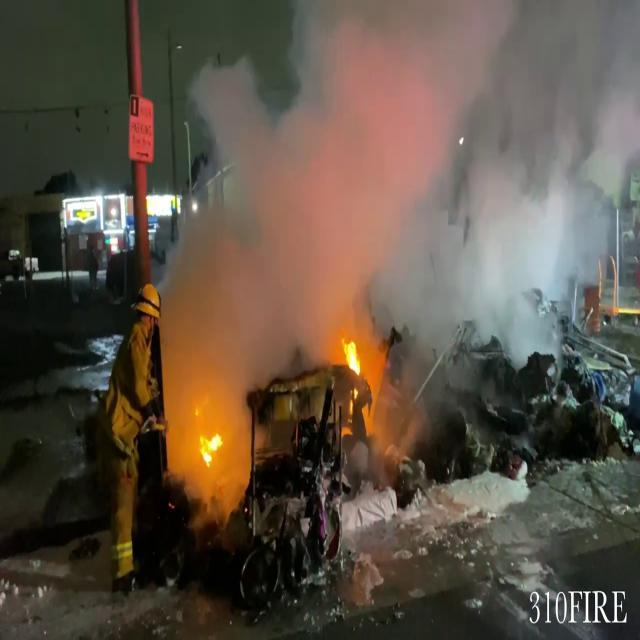Fire: (338, 331, 370, 402), (192, 414, 226, 476)
Smoke: (157, 0, 640, 371)
